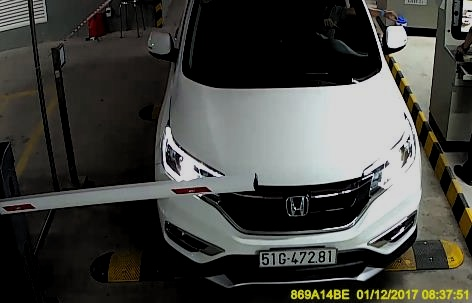plate: (259, 245, 336, 269)
